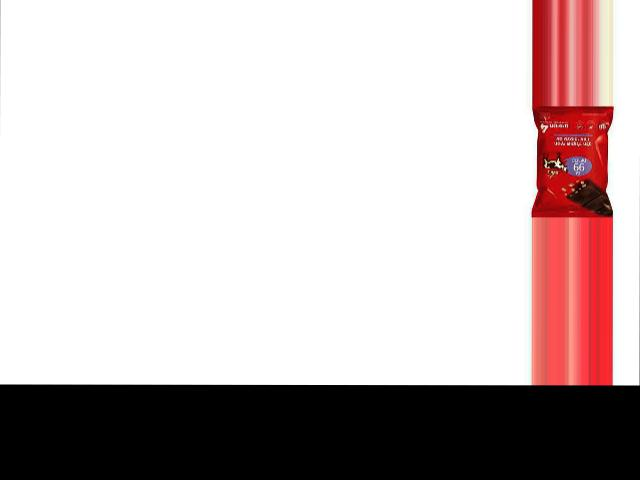chocolate: (534, 105, 614, 217)
